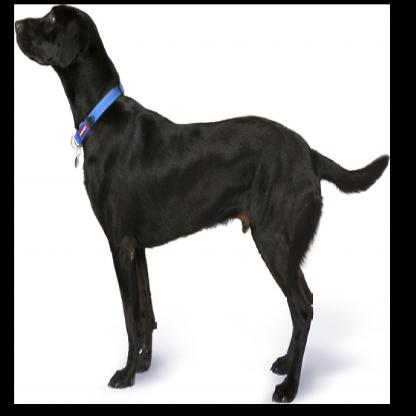dog: (10, 3, 389, 416)
